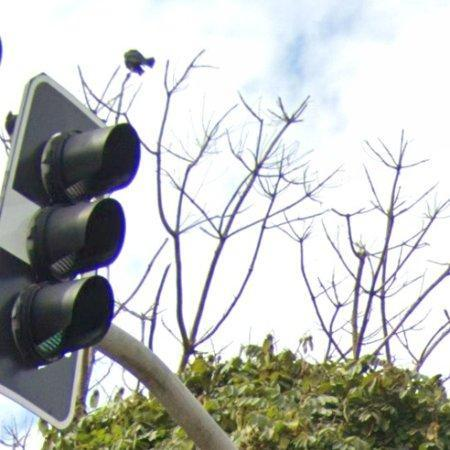traffic lights: (1, 72, 142, 429)
